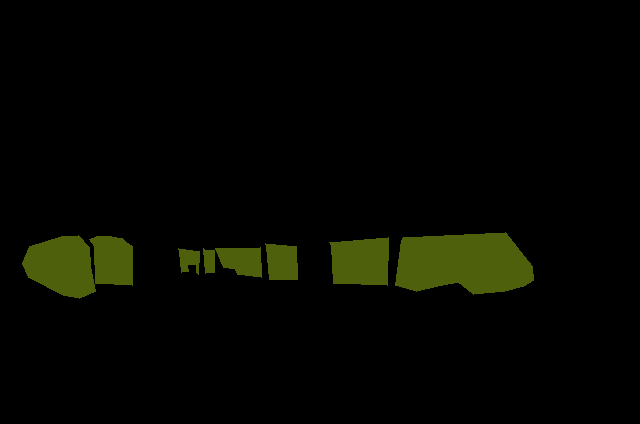Train: (178, 232, 533, 294), (22, 235, 95, 298), (89, 236, 133, 285)
